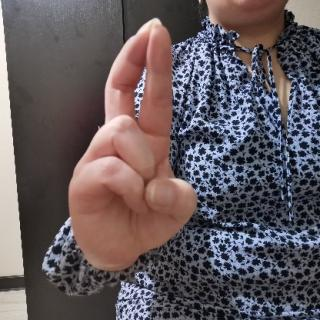ZAY: (63, 17, 208, 264)
